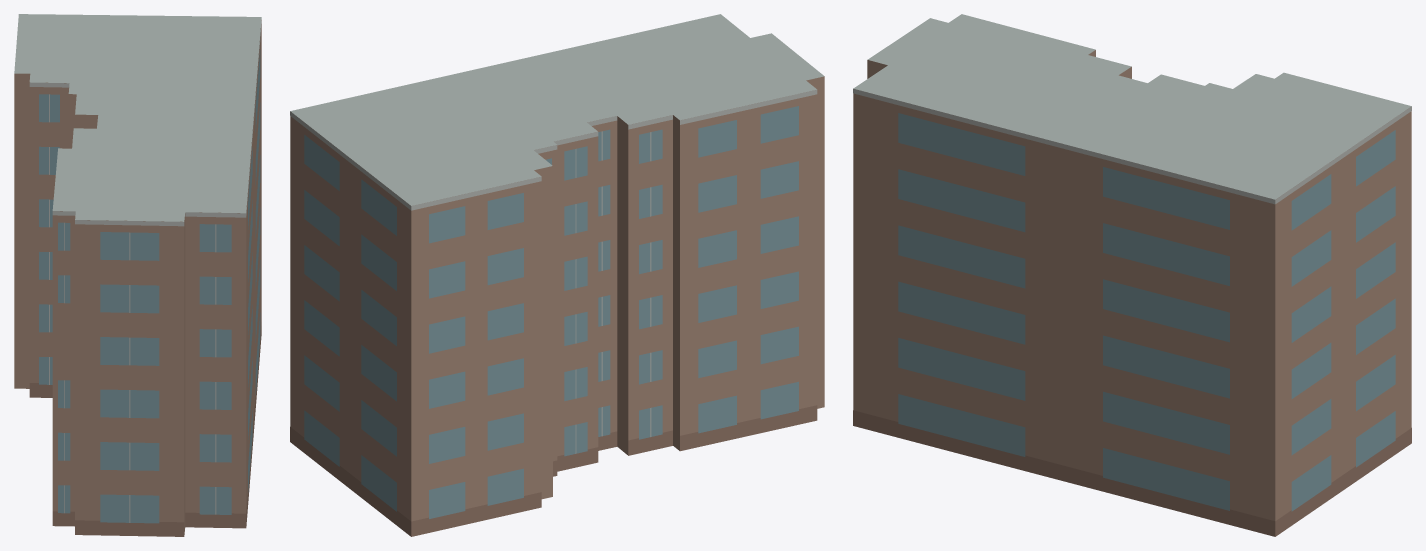
File: survey-upis-32729297.glb
3 views of the same model, side by side, from view 1: azimuth 30°, elevation 25°; view 2: azimuth 150°, elevation 25°; view 3: azimuth 270°, elevation 25° (orthographic). The views are drawn at different scales.
Parts seen in each view (by area): view 1: survey-upis-32729297.tmp; view 2: survey-upis-32729297.tmp; view 3: survey-upis-32729297.tmp.
Part boxes in pixels (bbox=[...]): survey-upis-32729297.tmp: bbox=[14, 14, 261, 536]; survey-upis-32729297.tmp: bbox=[290, 14, 824, 536]; survey-upis-32729297.tmp: bbox=[853, 14, 1411, 536].
Size of the model in its own units: 20.44 by 17.3 by 25.98.
